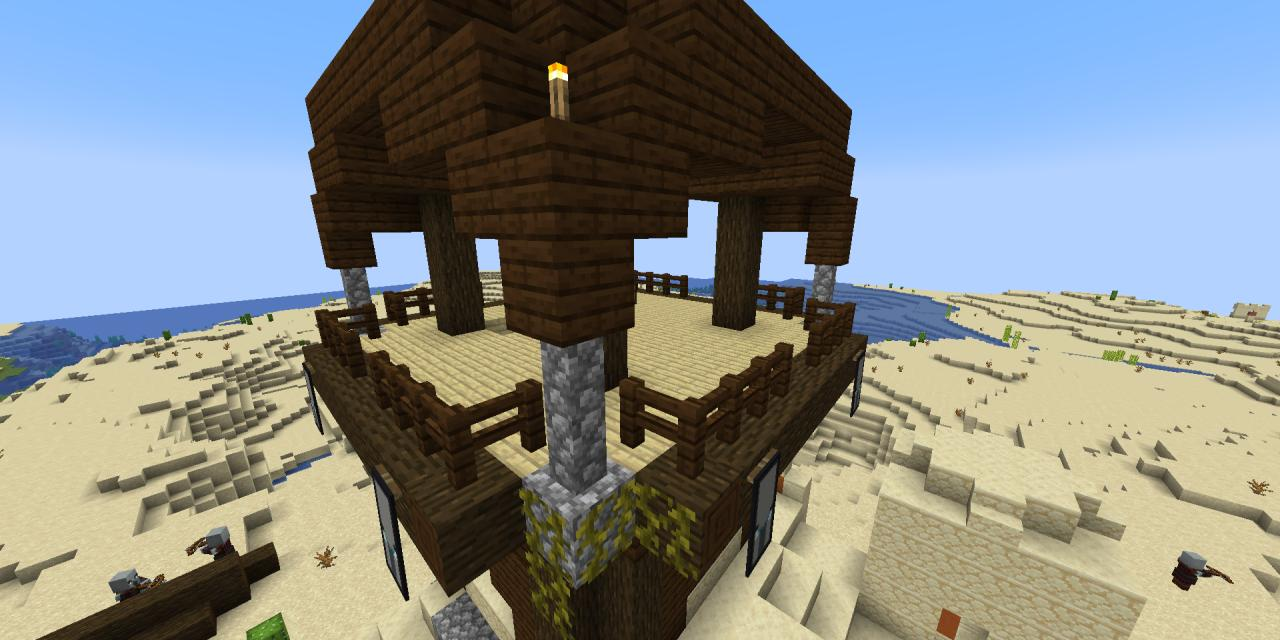pillager outpost: (290, 0, 884, 640)
